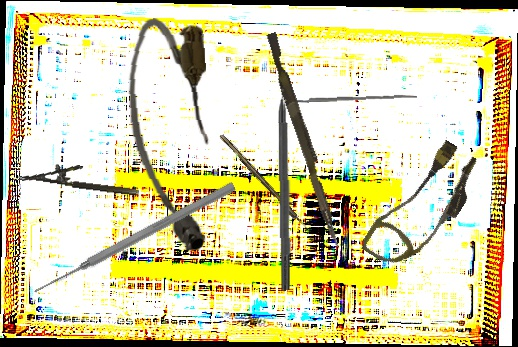Cannula: (123, 15, 219, 256), (358, 130, 489, 283)
Hook Surgical: (218, 132, 312, 235), (276, 70, 294, 291)
Needle Holder: (17, 157, 142, 197)
Pusher: (29, 179, 238, 299), (260, 31, 349, 249)
Scalpel Handle: (285, 93, 418, 104)
